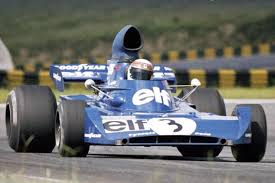f1_car: (4, 19, 271, 170)
